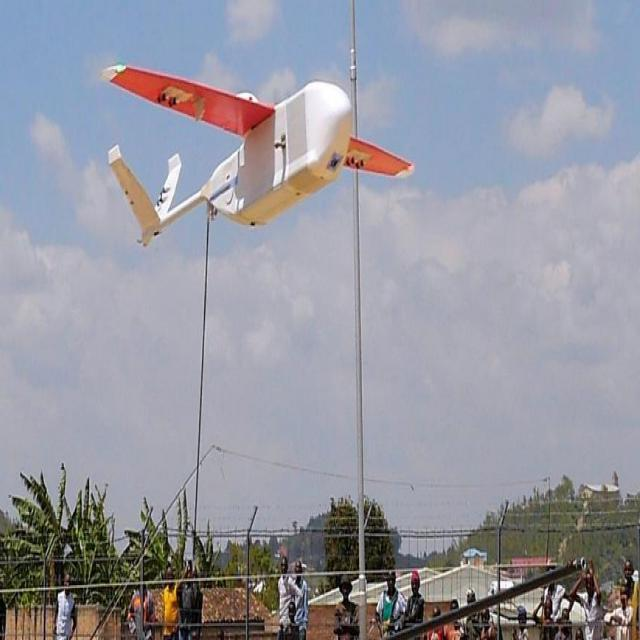iha: (90, 55, 410, 252)
